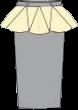Hemline: (0, 24, 77, 34), (18, 105, 61, 109)
Waistline: (16, 4, 62, 7), (19, 0, 61, 2)
